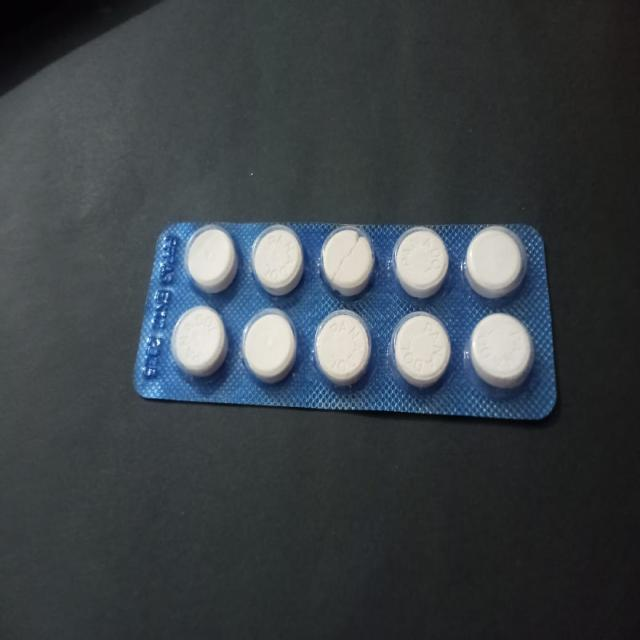defect: (318, 224, 378, 303)
